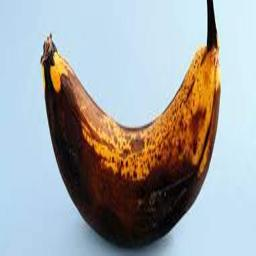Banana Rotten: (29, 16, 235, 251)
